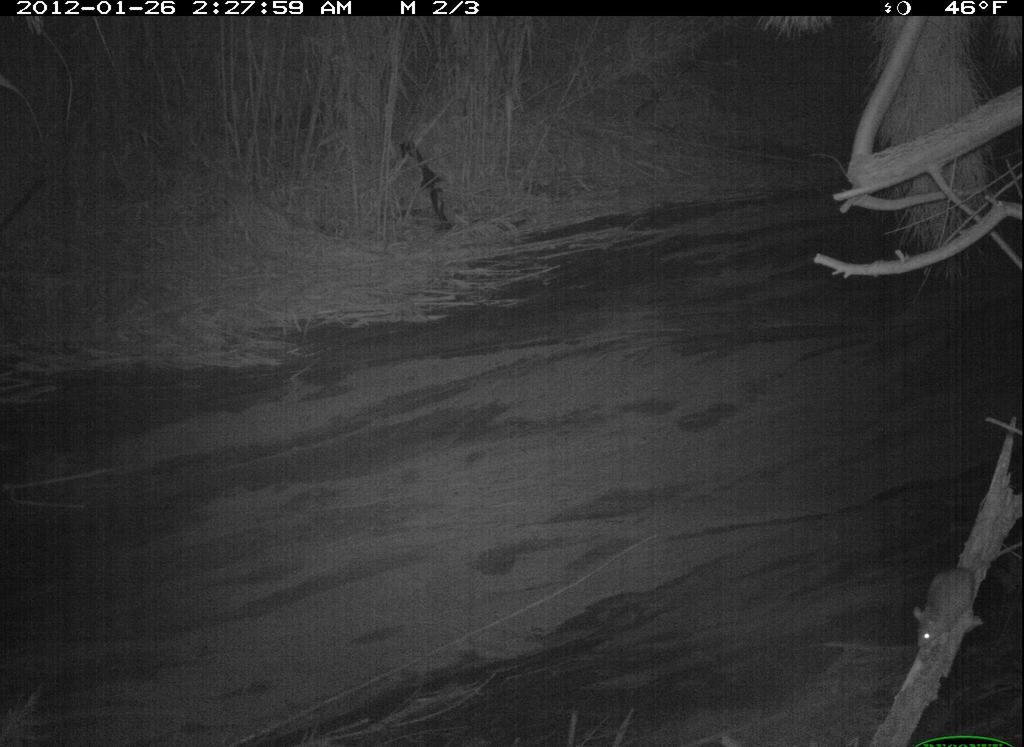rodent: (908, 539, 1022, 658)
